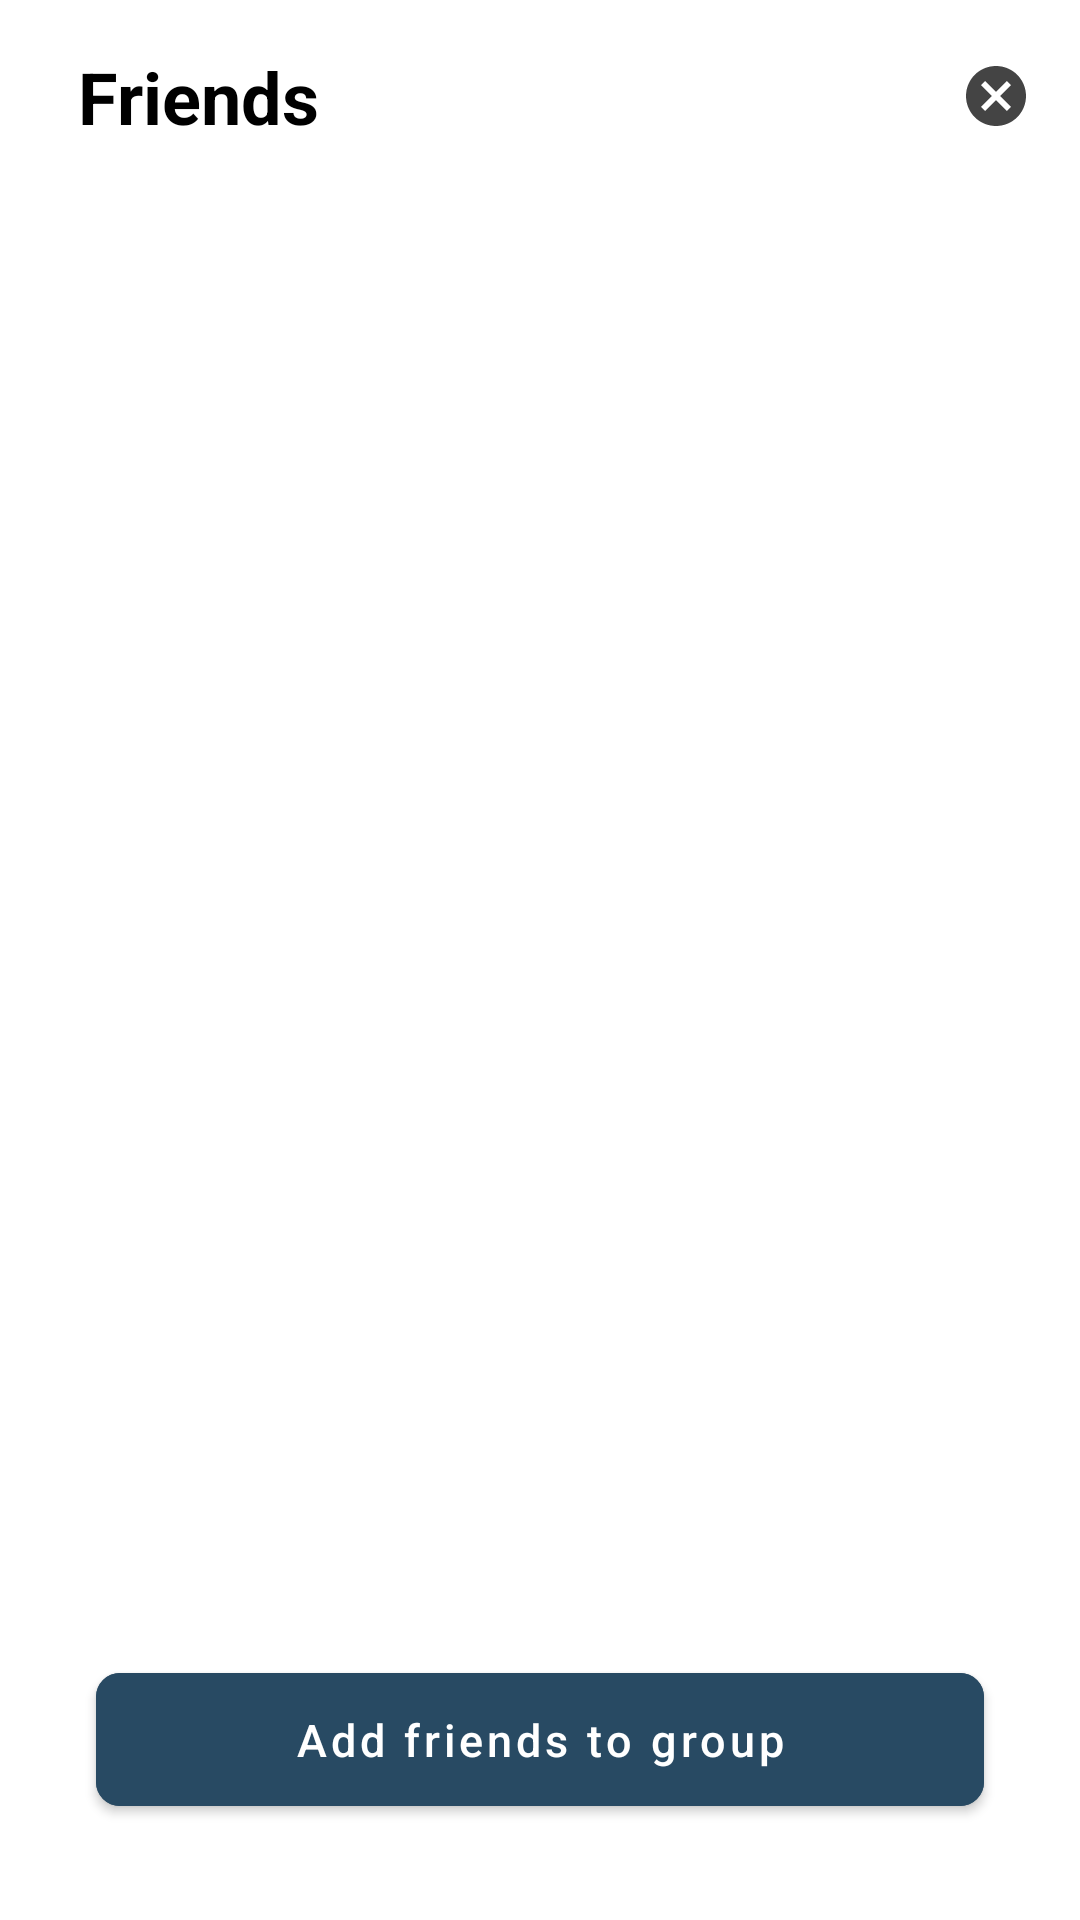

Icons on this 1080px x 1920px Android screen, each with its box as {"left": x1, "top": y1, "right": x2, "bottom": y2}:
Cancel: {"left": 966, "top": 66, "right": 1026, "bottom": 126}
